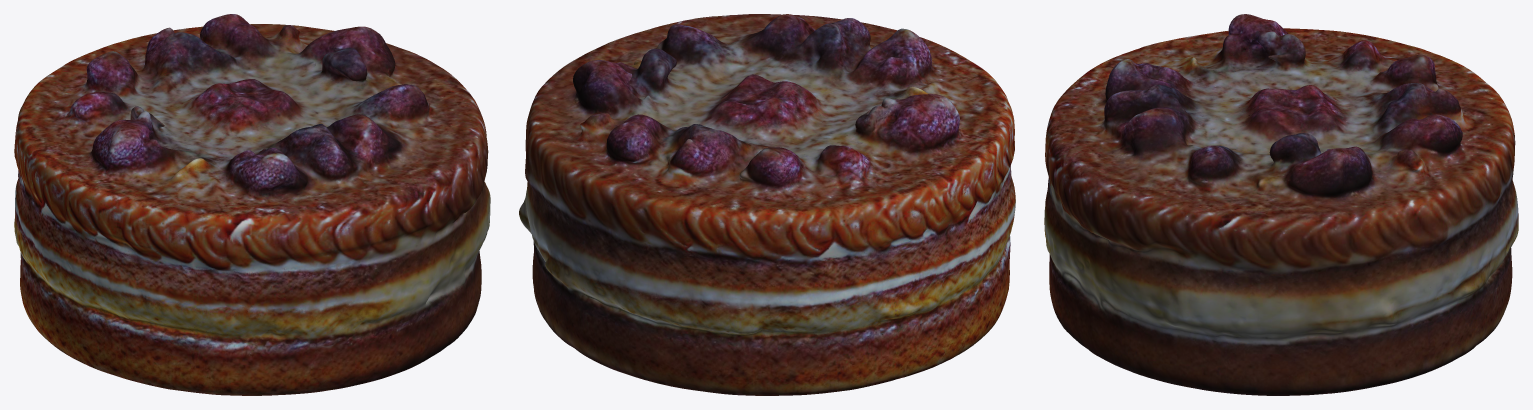
Rendered from 8b4950d545a0_realistic_cake_min.fbx.
The picture shows the model from 3 angles, left to right: view 1: azimuth 30°, elevation 25°; view 2: azimuth 150°, elevation 25°; view 3: azimuth 270°, elevation 25°; orthographic projection. The views are drawn at different scales.
Visible parts, largest first — view 1: high_poly; view 2: high_poly; view 3: high_poly.
Part boxes in pixels (left/top/right/bottom): high_poly: left=14, top=14, right=490, bottom=395; high_poly: left=519, top=14, right=1015, bottom=395; high_poly: left=1044, top=14, right=1518, bottom=395.
Bounding box in the file's own units: 99.87 × 52.36 × 100.
